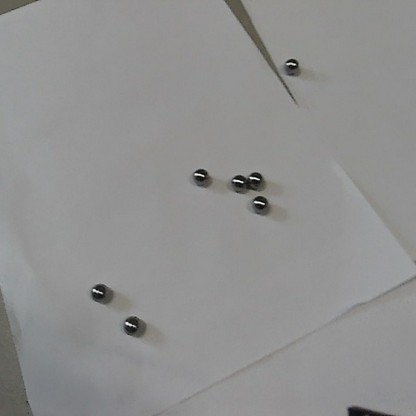ironball: (119, 313, 146, 338), (89, 281, 112, 306), (280, 56, 301, 78), (189, 166, 211, 184), (250, 194, 269, 214), (228, 175, 246, 193), (246, 168, 264, 186)
